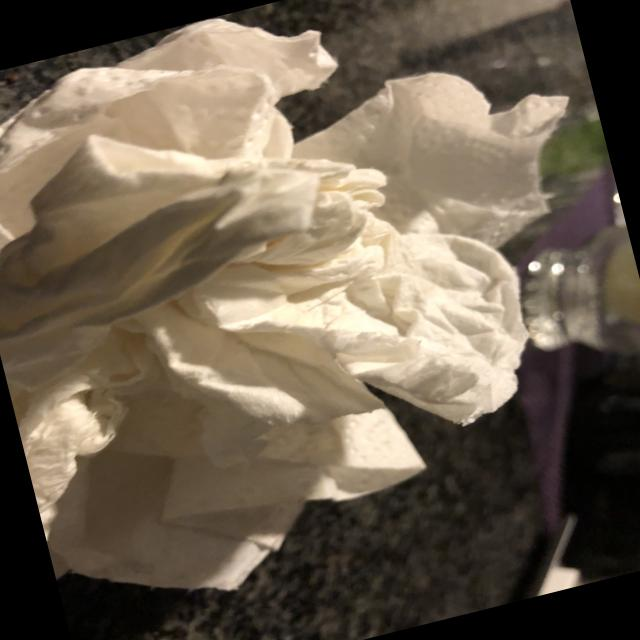organic waste: (161, 37, 640, 492), (0, 239, 441, 635), (0, 68, 370, 352), (0, 0, 363, 249)
